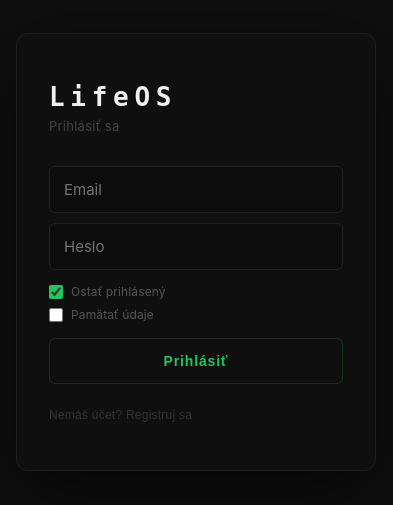
Test: AuthPage › form submission — login › shows error message when api.login throws
Step 1. Type "bad@example.com" into the field with placeholder "Email" → (196, 190), box 49,166 -> 343,213
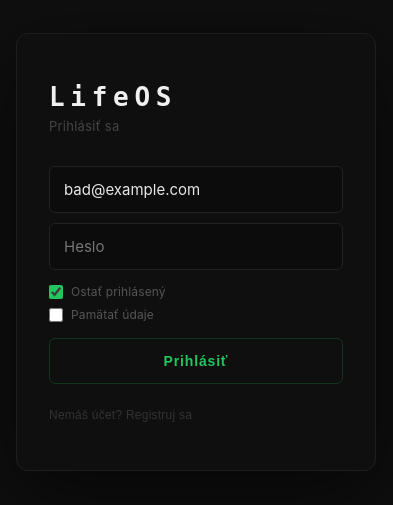
Step 2. Type "wrongpass" into the password field with placeholder "Heslo" → (196, 246), box 49,223 -> 343,270
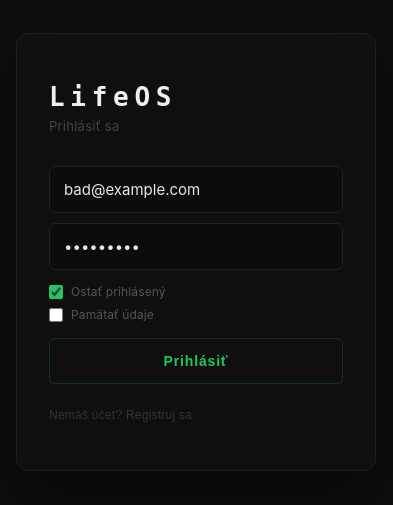
Step 3. Click the button "Prihlásiť" → (196, 361), box 49,338 -> 343,384
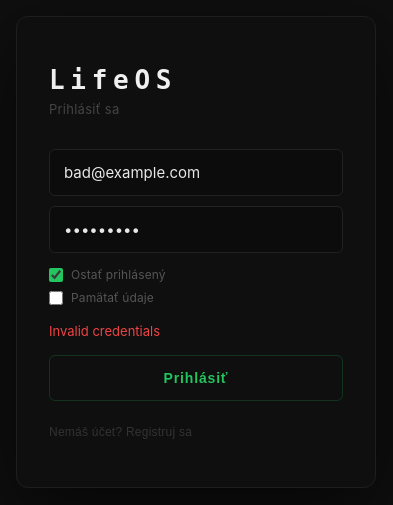
Expected: the text "Invalid credentials" is shown, 49,323 -> 160,339
